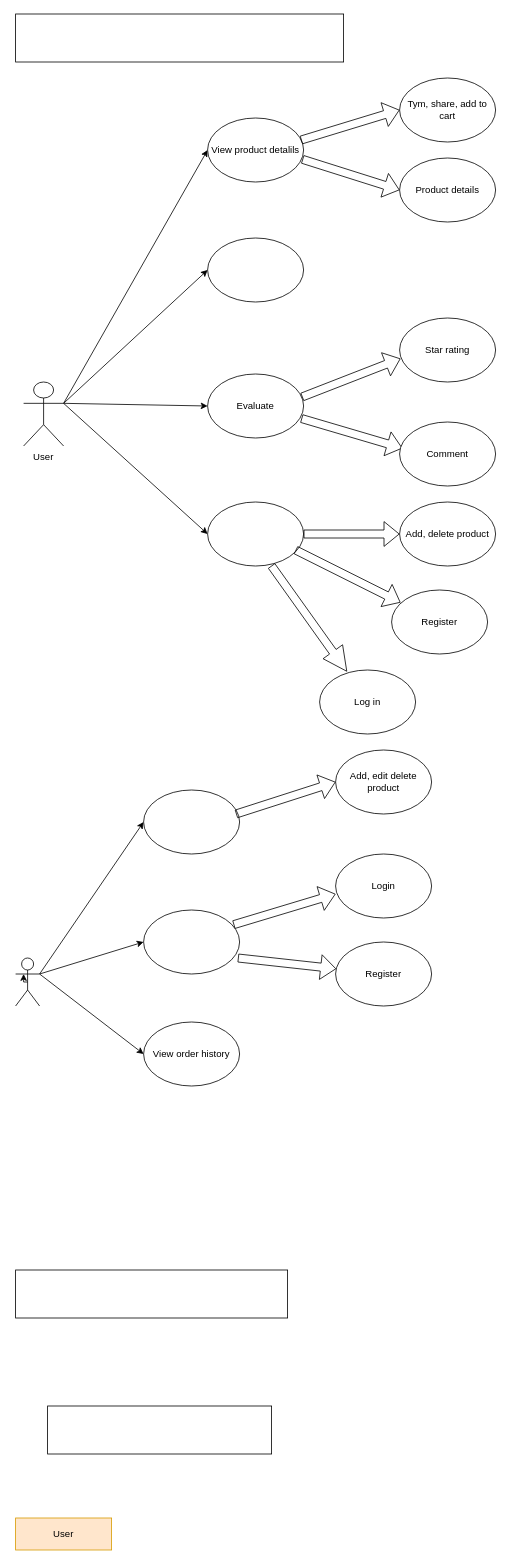
Image size: 510x1564. Some labels were removed from this diagram. The shapes that lost their labels are listed below. From the top down, each one's centre as x and y in pixels, then its label:
the point at 179,37: Sơ đồ Use Case
the point at 255,269: Instruct
the point at 255,533: Account management
the point at 191,821: Manage product
the point at 191,941: User account management
the point at 27,981: Admin
the point at 151,1293: Sơ đồ UML
the point at 159,1429: Sơ đồ Lớp (Class Diagram)
